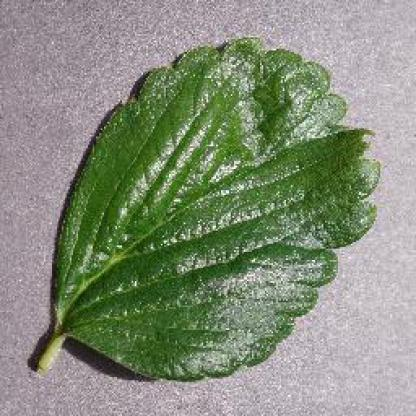healthy: (28, 34, 385, 388)
